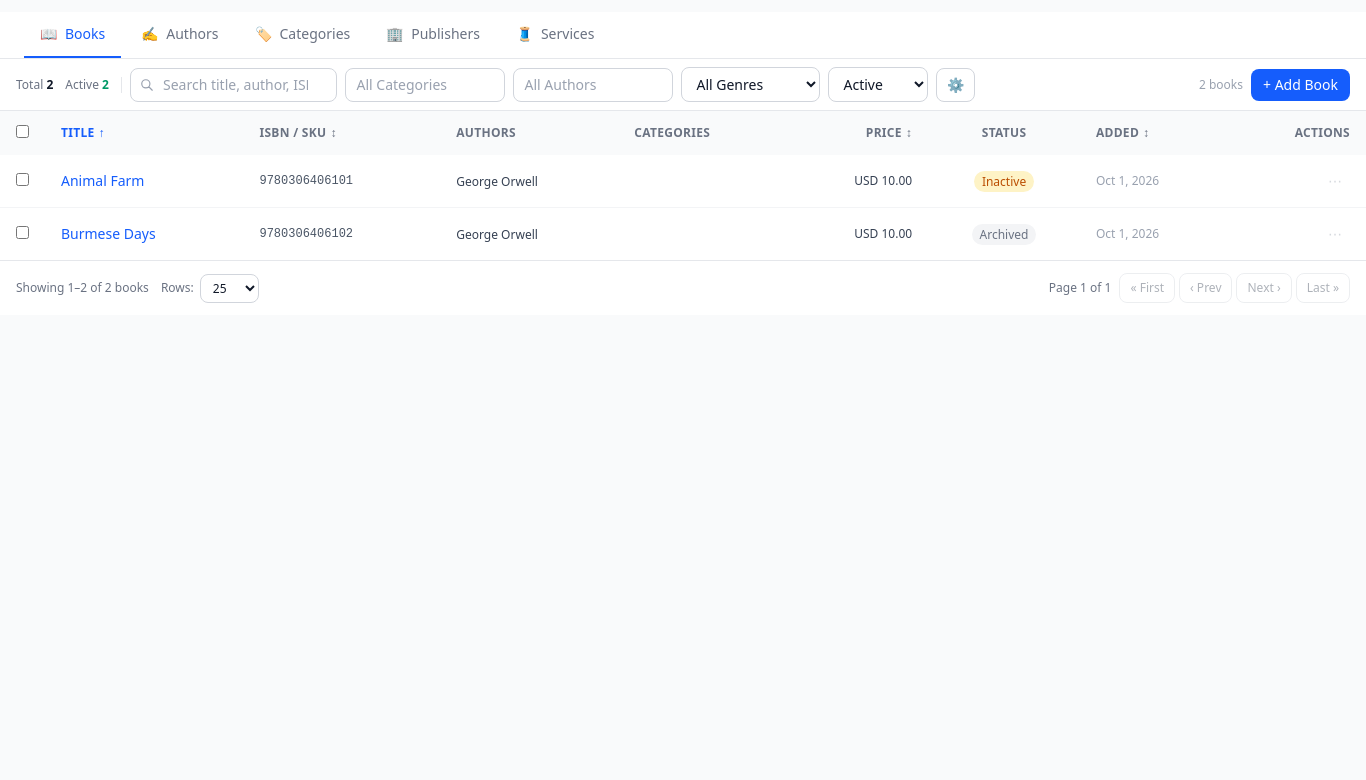
Scenario: Book list: bulk status changes › says which books the API refused (was: every book counted as changed)
The width and height of the screenshot is (1366, 780).
Expected: the button "Animal Farm" is shown, left=61, top=171, right=144, bottom=191
Click the checkbox named "Select Animal Farm".
click(22, 180)  # box left=16, top=173, right=29, bottom=186
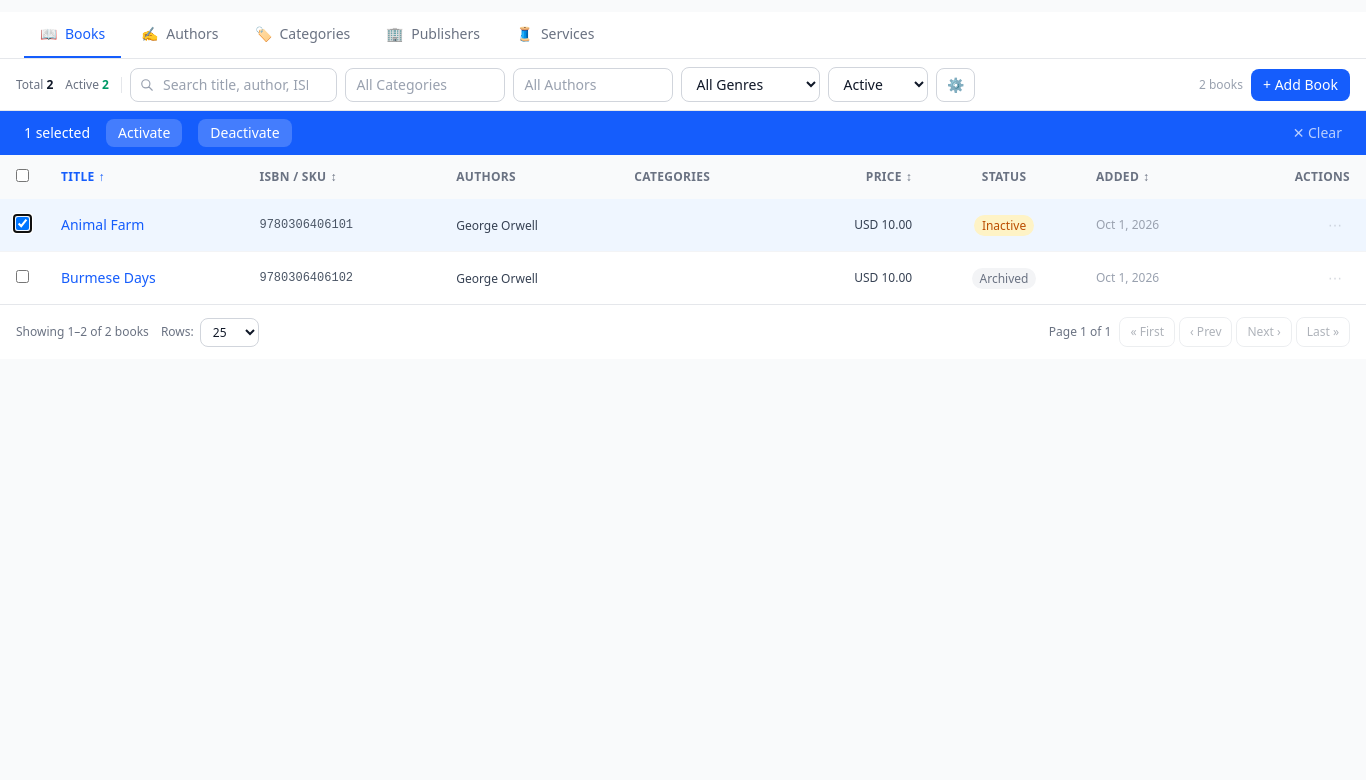
Click the checkbox named "Select Burmese Days".
click(22, 276)  # box left=16, top=270, right=29, bottom=283
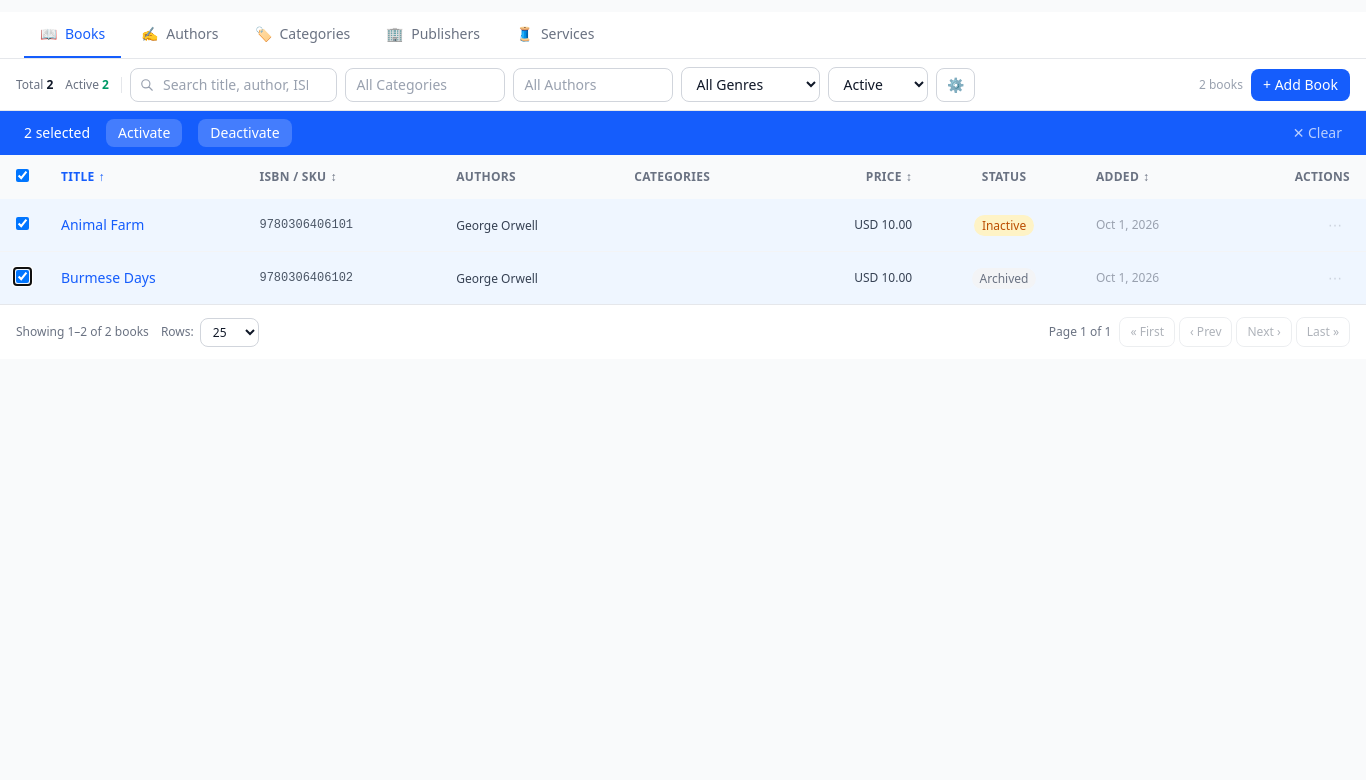
Click the button "Activate".
click(144, 133)  # box left=106, top=119, right=182, bottom=147
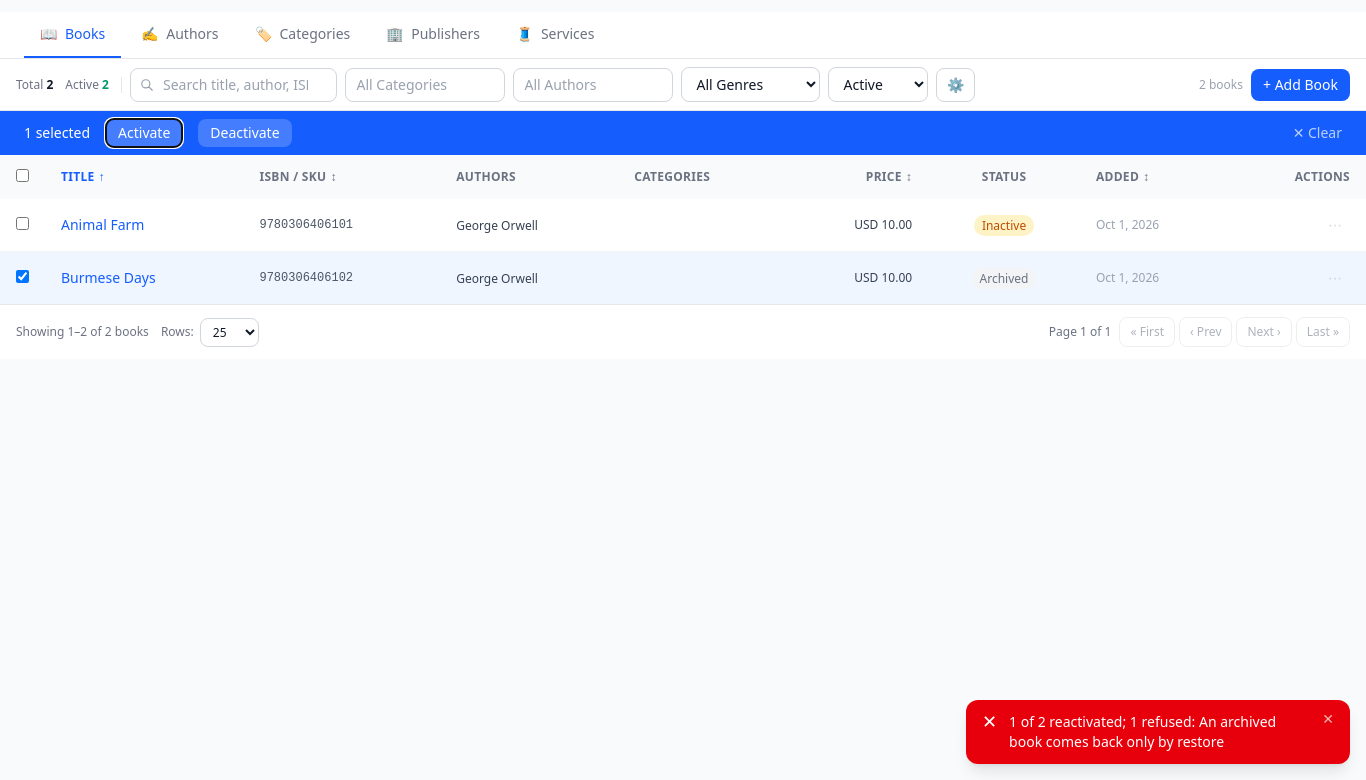
Expected: the text "1 of 2 reactivated; 1 refused: An archived book comes back only by restore" is shown, left=1009, top=712, right=1310, bottom=752
